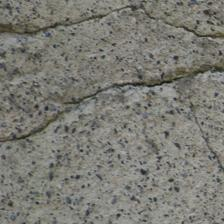Crack: (0, 81, 93, 210), (51, 0, 118, 101), (198, 19, 224, 59)
